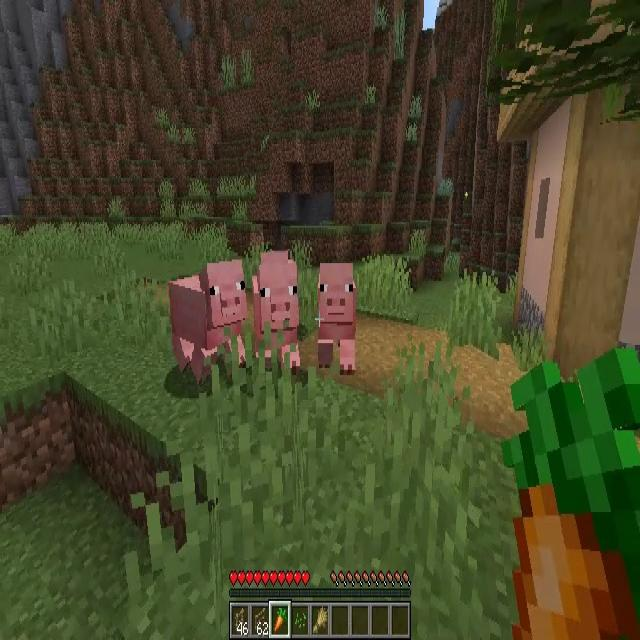pig: (170, 261, 247, 378), (252, 256, 300, 373), (317, 263, 355, 373)
